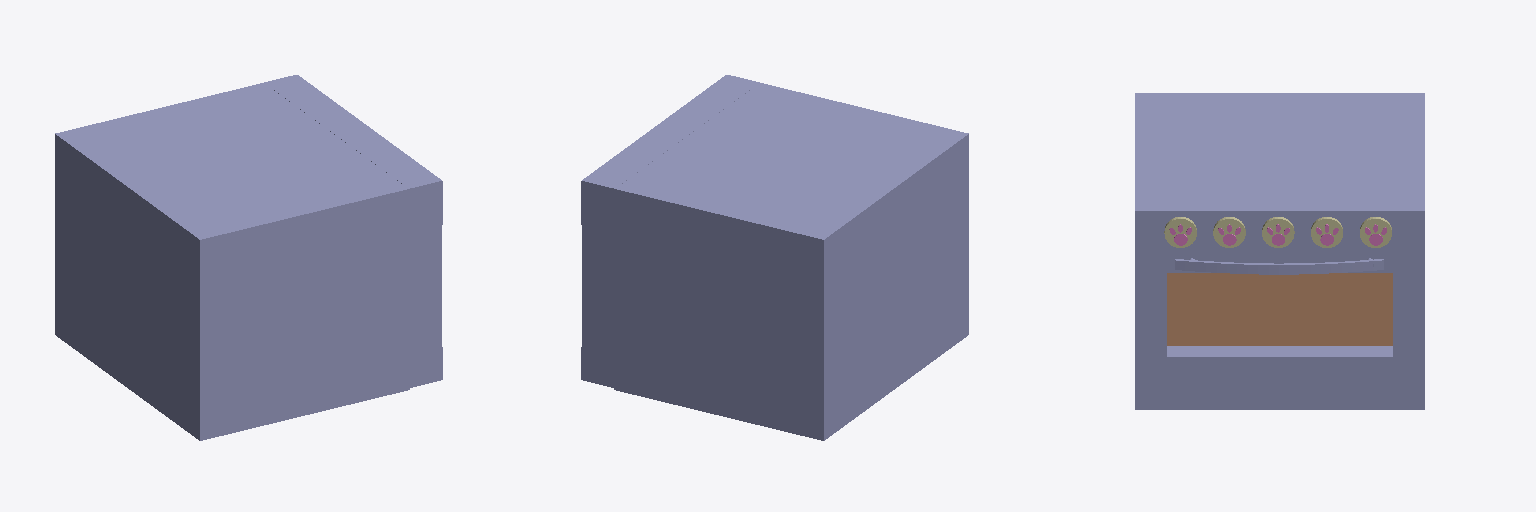
The model's file is oven_closed.obj.
3 views of the same model, side by side, from view 1: azimuth 30°, elevation 25°; view 2: azimuth 150°, elevation 25°; view 3: azimuth 270°, elevation 25° (orthographic).
Parts seen in each view (by area): view 1: Cube.001; view 2: Cube.001; view 3: Cube.001.
Boxes of the visible parts, <box> form: Cube.001: <box>55,75,442,440</box>; Cube.001: <box>581,75,968,440</box>; Cube.001: <box>1135,93,1424,409</box>.
Size of the model in its own units: 2.29 by 1.71 by 2.24.